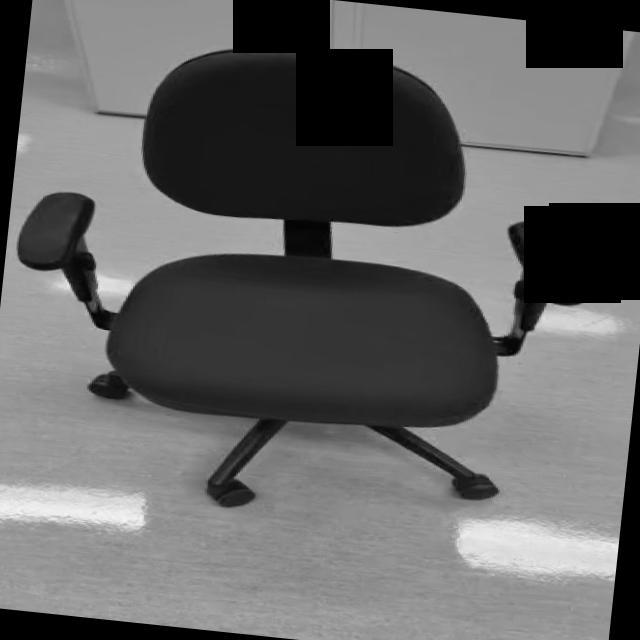chair: (0, 20, 611, 542)
